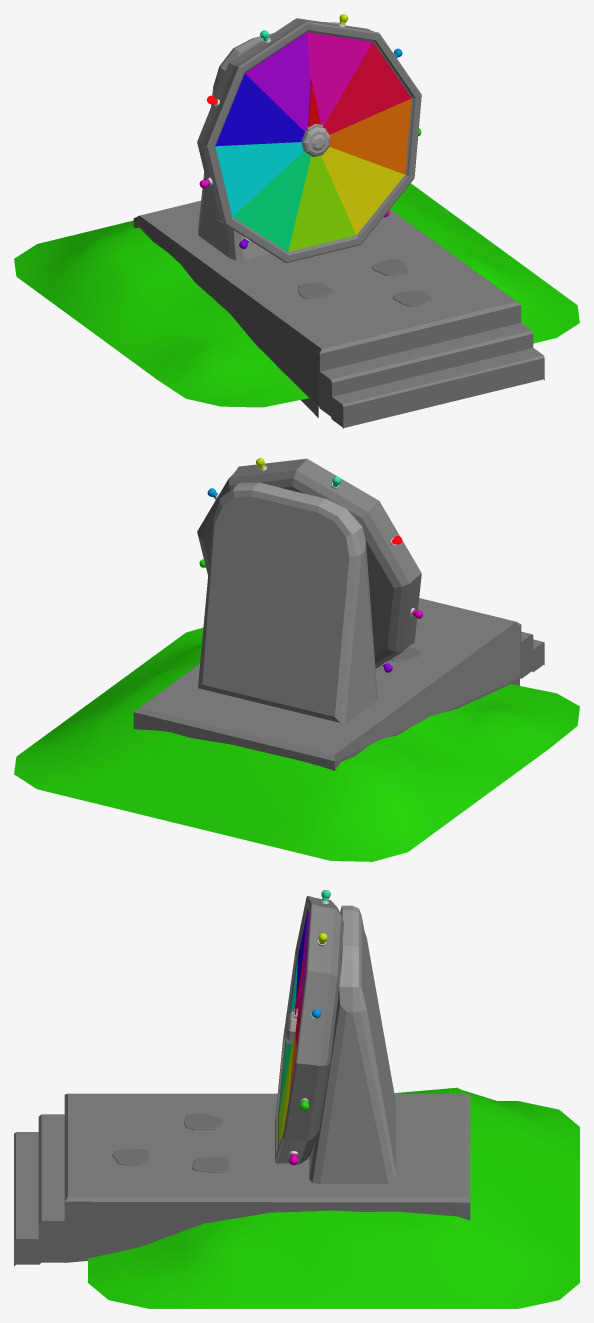
Rendered from spinTheWheel2.fbx.
3 views of the same model, one above another, from view 1: azimuth 30°, elevation 25°; view 2: azimuth 150°, elevation 25°; view 3: azimuth 270°, elevation 25° (orthographic). The views are drawn at different scales.
Visible parts, largest first — view 1: Plane.002, Plane.001, Cylinder, Cylinder.009, Cylinder.008, Cylinder.010, Cylinder.007, Cylinder.004, Cylinder.005, Cylinder.006, Cylinder.002, Cylinder.003 (+2 smaller); view 2: Plane.001, Cube, Plane.002, Cylinder; view 3: Plane.001, Plane.002, Cube, Cylinder, Plane.003, Plane.004, Plane.005.
Part boxes in pixels (x1,y1,x2,y2): Plane.002: (133, 200, 544, 428); Plane.001: (14, 183, 579, 407); Cylinder: (197, 18, 421, 262); Cylinder.009: (215, 142, 303, 216); Cylinder.008: (233, 151, 310, 251); Cylinder.010: (215, 73, 304, 146); Cylinder.007: (288, 155, 356, 251); Cylinder.004: (323, 42, 411, 134); Cylinder.005: (329, 98, 411, 174); Cylinder.006: (321, 147, 404, 234); Cylinder.002: (245, 32, 310, 131); Cylinder.003: (307, 32, 372, 126); Plane.001: (14, 628, 579, 861); Cube: (198, 482, 377, 723); Plane.002: (133, 598, 544, 770); Cylinder: (197, 458, 421, 668); Plane.001: (88, 1087, 579, 1308); Plane.002: (14, 1093, 470, 1265); Cube: (309, 905, 395, 1183); Cylinder: (275, 896, 343, 1164); Plane.003: (184, 1113, 223, 1129); Plane.004: (191, 1156, 229, 1172); Plane.005: (112, 1148, 150, 1165).
Size of the model in its own units: 389 by 275 by 448.
